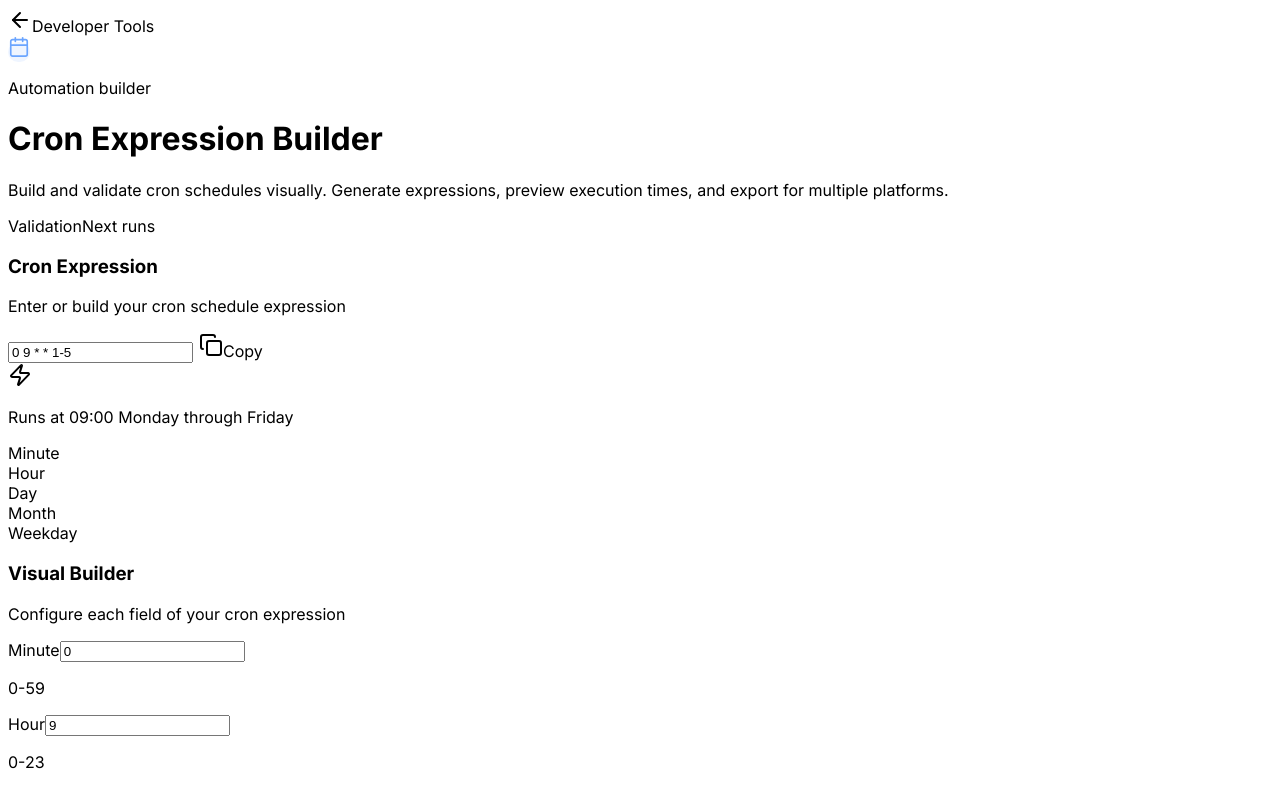
Test: CronExpressionPage › Human-Readable Description › should update description when expression changes
Replace the text in the field showing "0 9 * * 1-5" with "0 0 * * *": (100, 353) x1=8 y1=342 x2=193 y2=363
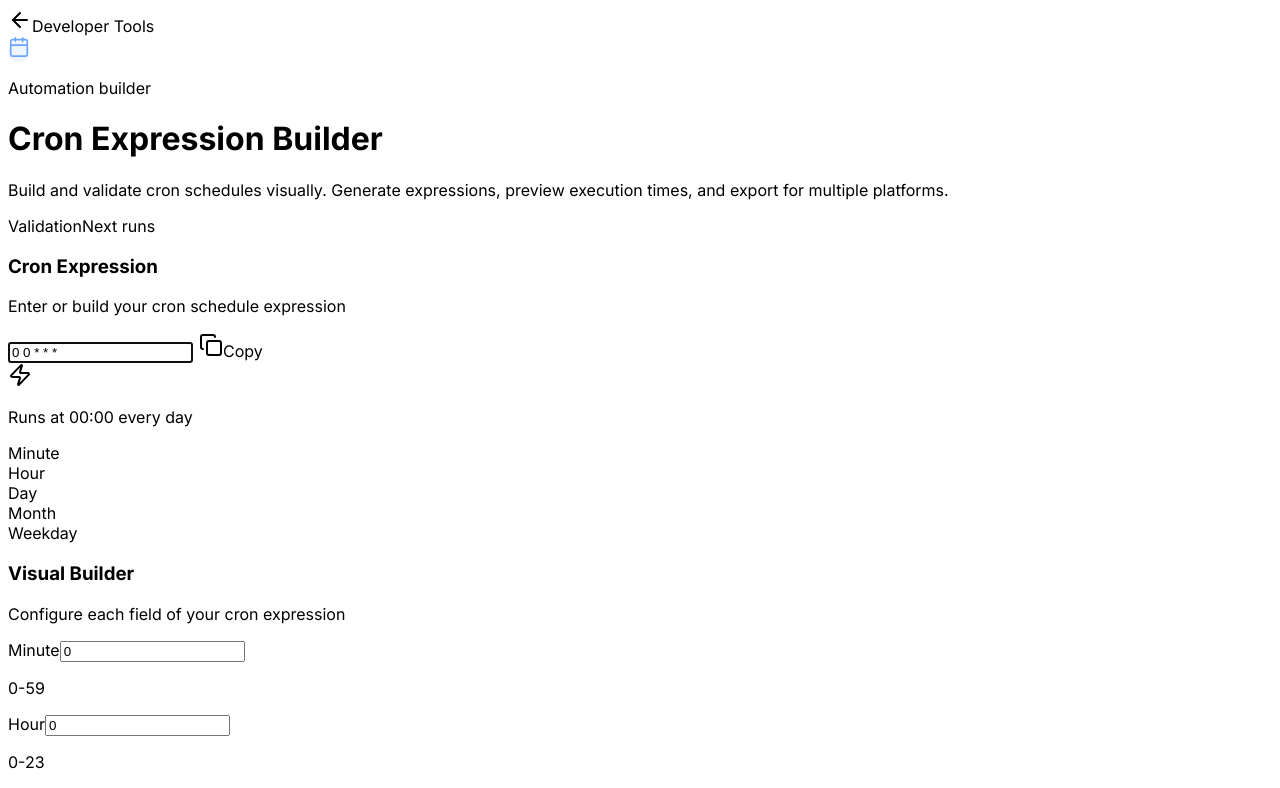
expect the text "Runs at 00:00 every day" is shown: met, box x1=8 y1=407 x2=193 y2=427
